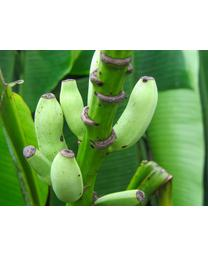banana: (30, 75, 159, 198)
